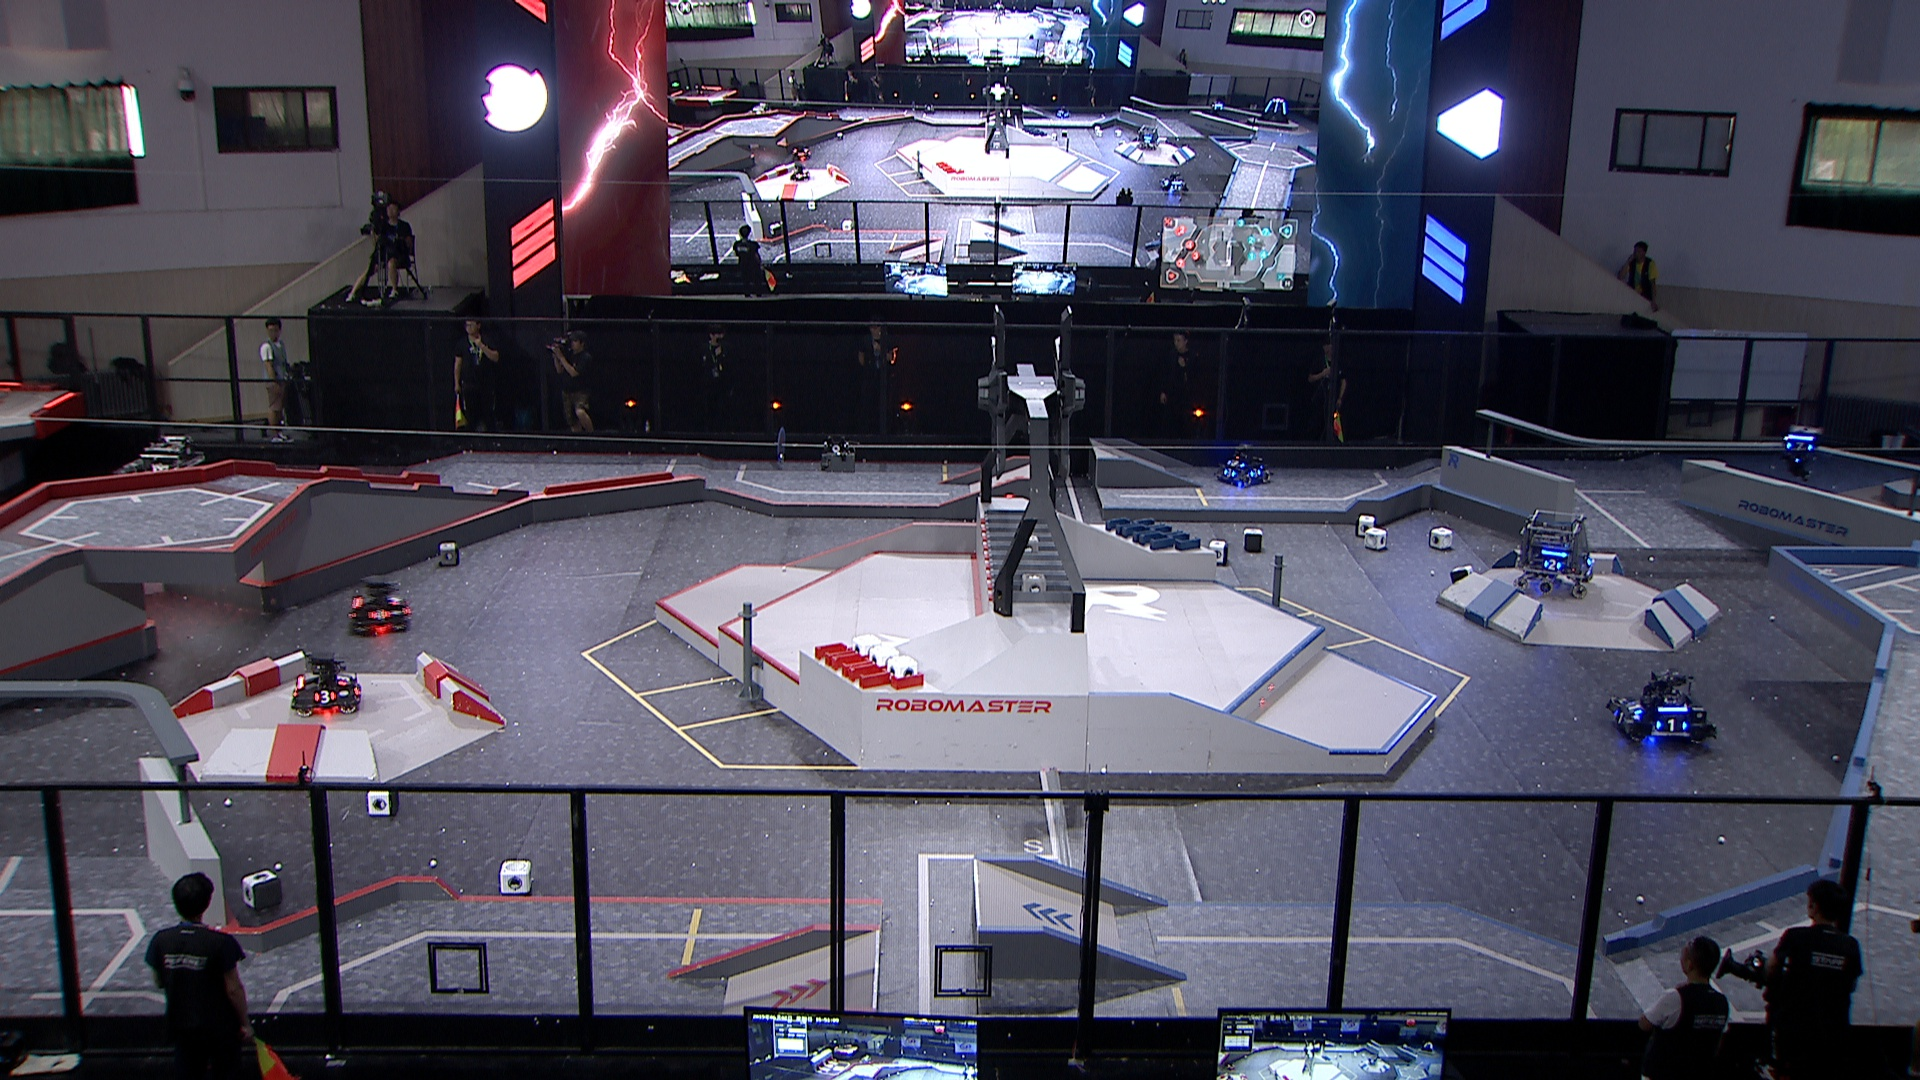armor: (1654, 717, 1688, 735), (311, 688, 338, 707), (1783, 440, 1815, 454), (367, 607, 392, 622), (1543, 556, 1564, 572), (1610, 707, 1626, 727), (1627, 699, 1643, 717), (1245, 467, 1265, 481), (1221, 465, 1240, 479), (334, 674, 352, 687), (386, 593, 404, 605), (1229, 460, 1245, 467)
car: (115, 436, 216, 527), (1602, 669, 1717, 746), (1513, 509, 1598, 600), (287, 650, 365, 717), (343, 572, 411, 636), (1215, 442, 1271, 491)
ignore: (1257, 96, 1292, 125), (1135, 123, 1160, 152), (1160, 171, 1188, 196), (789, 164, 812, 181), (793, 142, 814, 160)
watcher: (1776, 427, 1826, 483)
